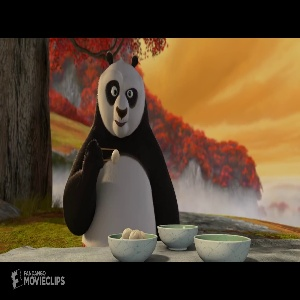po: (58, 50, 185, 245)
